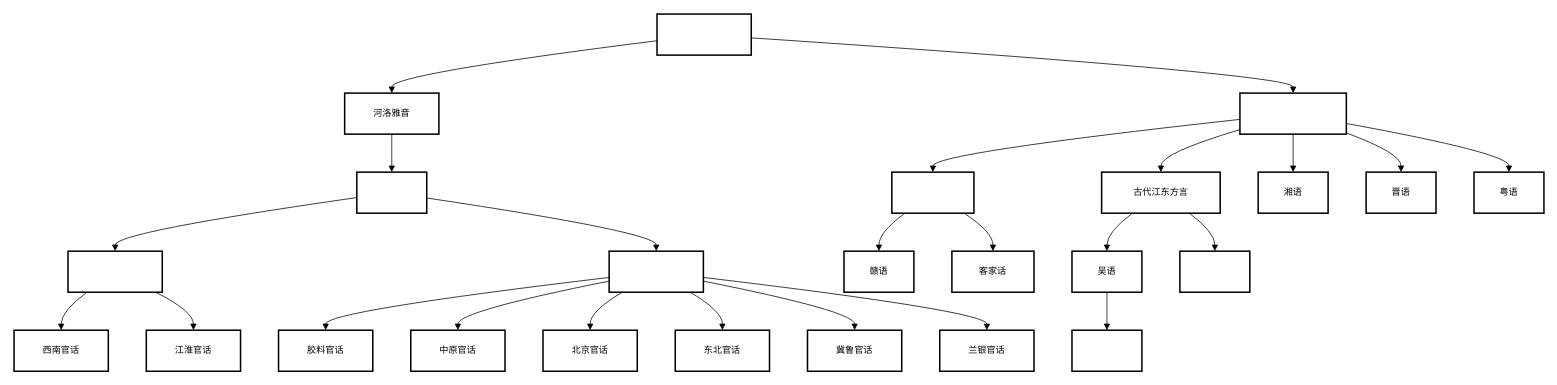
Some shapes in this 1557 by 385 pixel diagram are drawn without their labels. Here are the shapes that lost their labels. From the top down, the centre of each, then its label:
pixel 704 34: 上古汉语
pixel 1293 113: 中古汉语话
pixel 391 192: 官话
pixel 932 192: 赣客语
pixel 115 271: 南方官话
pixel 656 271: 北方官话
pixel 1214 271: 闽语
pixel 1106 350: 徽语
